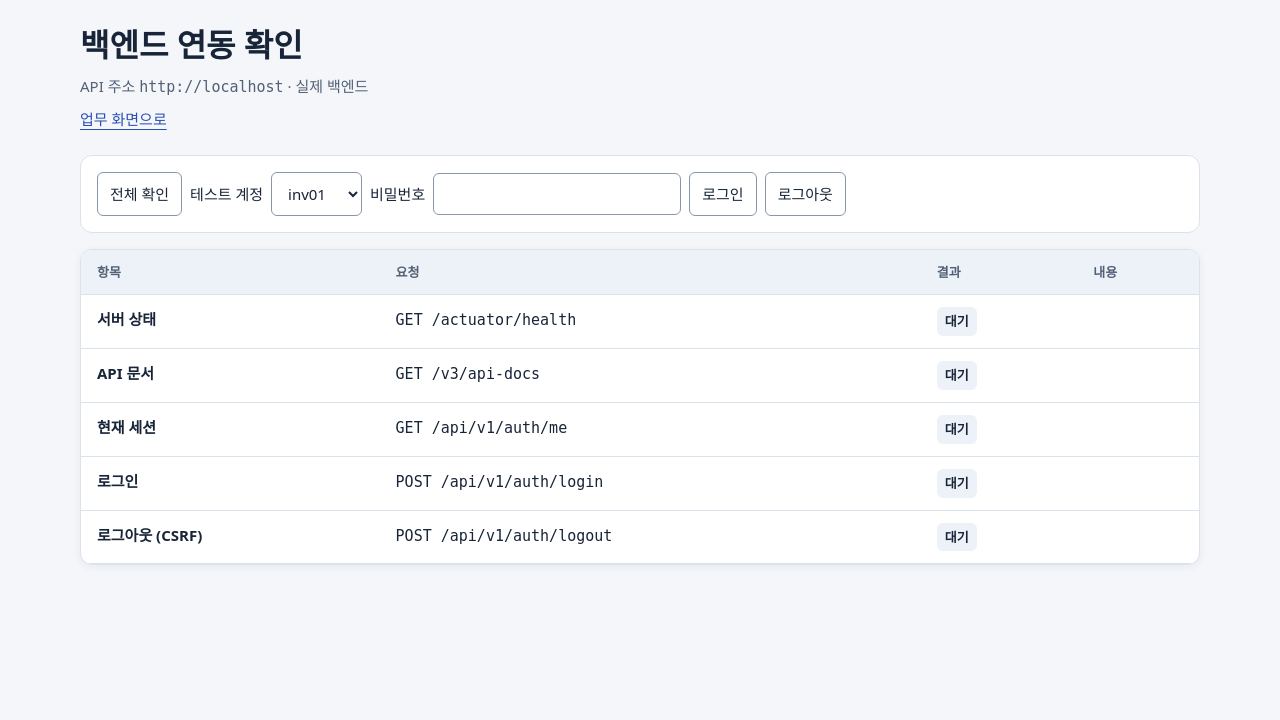
Scenario: 백엔드 연동 확인 › 로그인 전에도 열리고 서버·API 문서·세션을 차례로 확인한다
This screenshot has width=1280, height=720.
Click the button "전체 확인" at (140, 194), box [97,172,182,216]
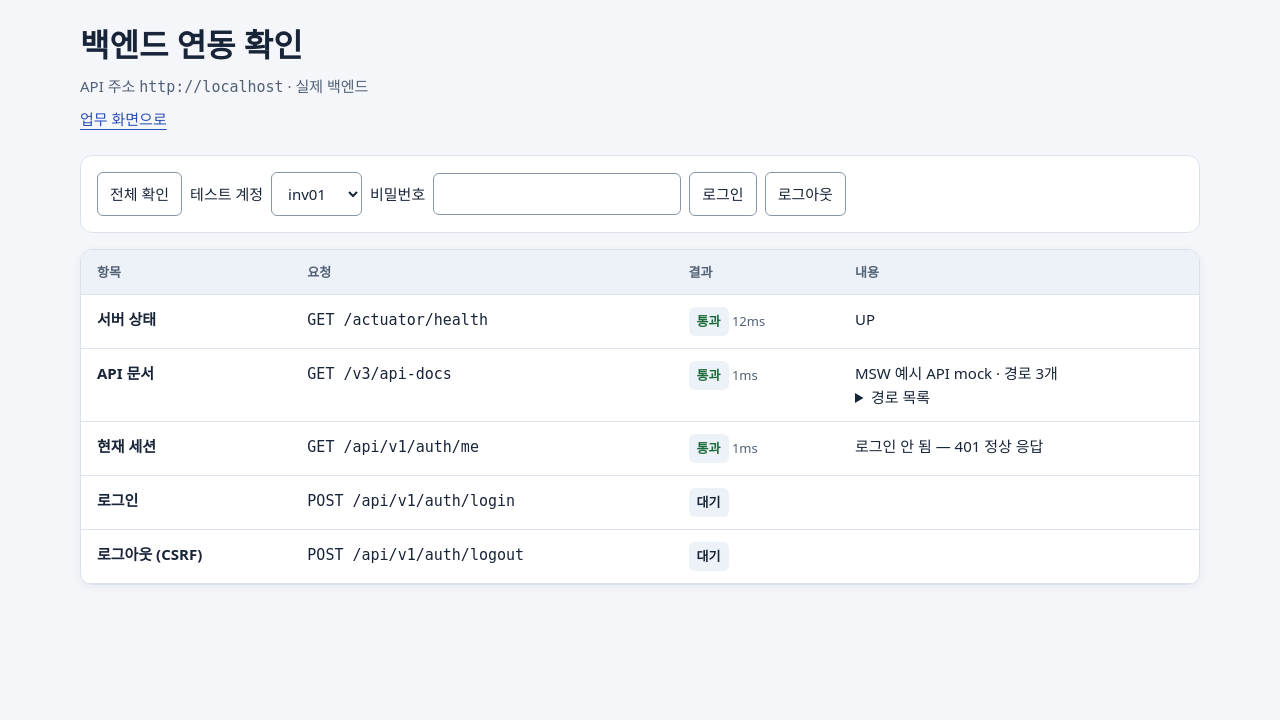
Expected: the text "통과" in the row of "현재 세션" is shown, [697,439,720,457]
Expected: the text "UP" is shown, [839,295,1199,349]
Expected: the text "MSW 예시 API mock · 경로 3개 경로 목록" is shown, [839,349,1199,422]
